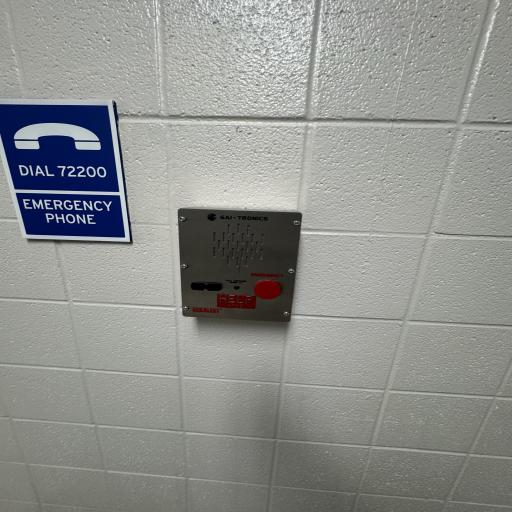emergency button: (173, 197, 310, 331)
sign: (0, 93, 123, 240)
